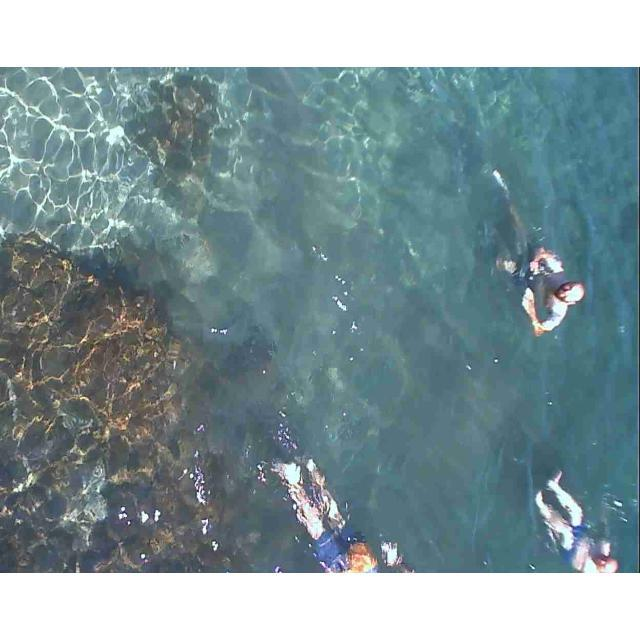human: (507, 226, 597, 366)
